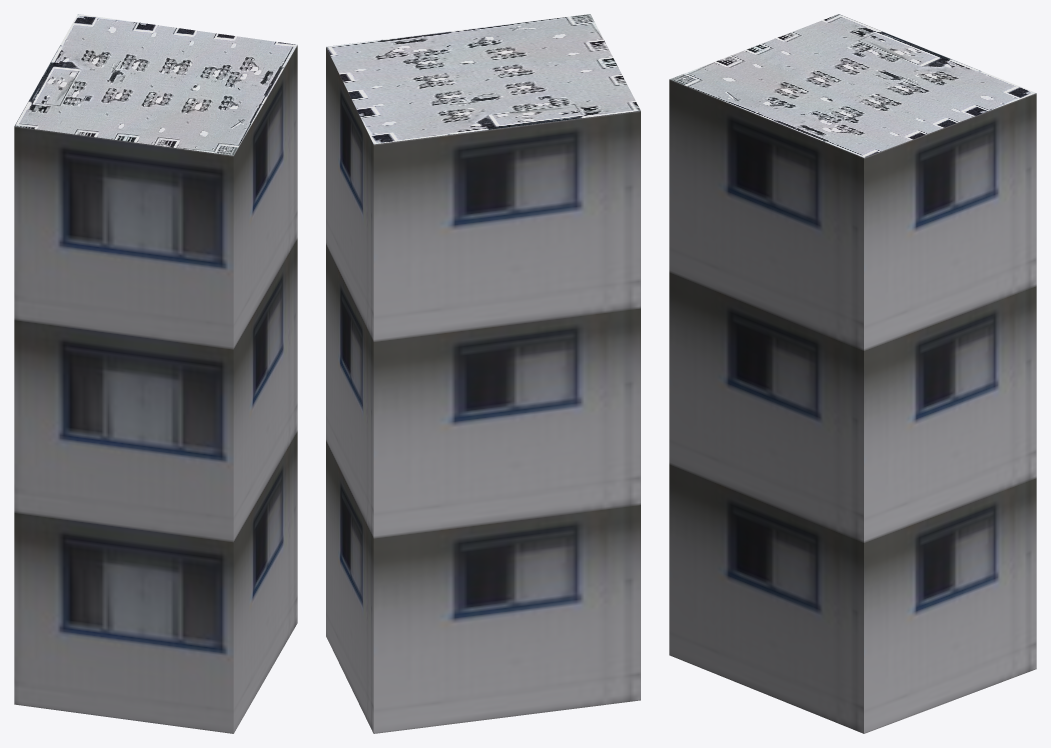
Rendered from ResTex__1275.fbx.
3 renders of one model, left to right at view 1: azimuth 30°, elevation 25°; view 2: azimuth 150°, elevation 25°; view 3: azimuth 270°, elevation 25°, orthographic. The views are drawn at different scales.
Parts seen in each view (by area): view 1: CityEngineMaterial_9_m, CityEngineMaterial_8_m; view 2: CityEngineMaterial_9_m, CityEngineMaterial_8_m; view 3: CityEngineMaterial_9_m, CityEngineMaterial_8_m.
Part boxes in pixels (x1=…): CityEngineMaterial_9_m: x1=14, y1=45, x2=297, y2=733; CityEngineMaterial_8_m: x1=14, y1=14, x2=297, y2=155; CityEngineMaterial_9_m: x1=326, y1=47, x2=640, y2=733; CityEngineMaterial_8_m: x1=326, y1=14, x2=640, y2=144; CityEngineMaterial_9_m: x1=669, y1=79, x2=1036, y2=733; CityEngineMaterial_8_m: x1=670, y1=14, x2=1036, y2=157.
Size of the model in its own units: 4.82 by 9 by 5.2.
2 materials, 2 textured.
